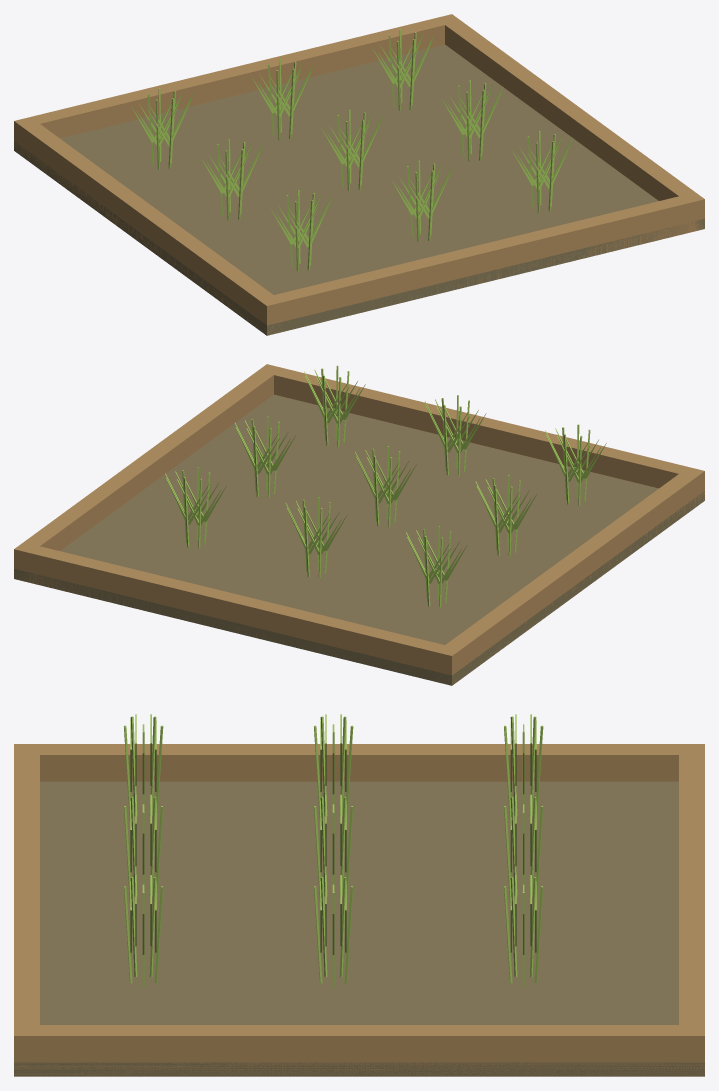
File: TR3_RicePlot_Square_4x4.glb
3 views of the same model, one above another, from view 1: azimuth 30°, elevation 25°; view 2: azimuth 150°, elevation 25°; view 3: azimuth 270°, elevation 25° (orthographic). The views are drawn at different scales.
Parts seen in each view (by area): view 1: TR3_RicePlot_Square_4x4; view 2: TR3_RicePlot_Square_4x4; view 3: TR3_RicePlot_Square_4x4.
Boxes of the visible parts, x1,y1,x2,y2 form: TR3_RicePlot_Square_4x4: (14,14,704,335); TR3_RicePlot_Square_4x4: (14,364,704,685); TR3_RicePlot_Square_4x4: (14,714,704,1076).
Size of the model in its own units: 4 by 0.7404 by 4.
